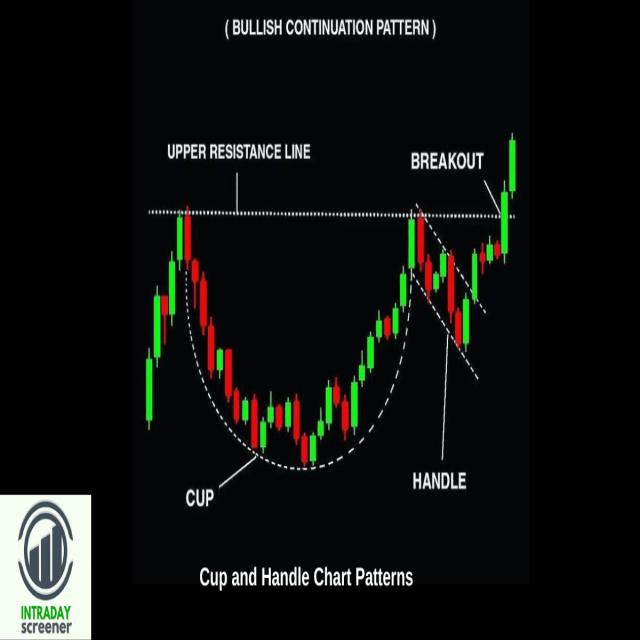Cup-and-handle: (174, 217, 515, 472)
